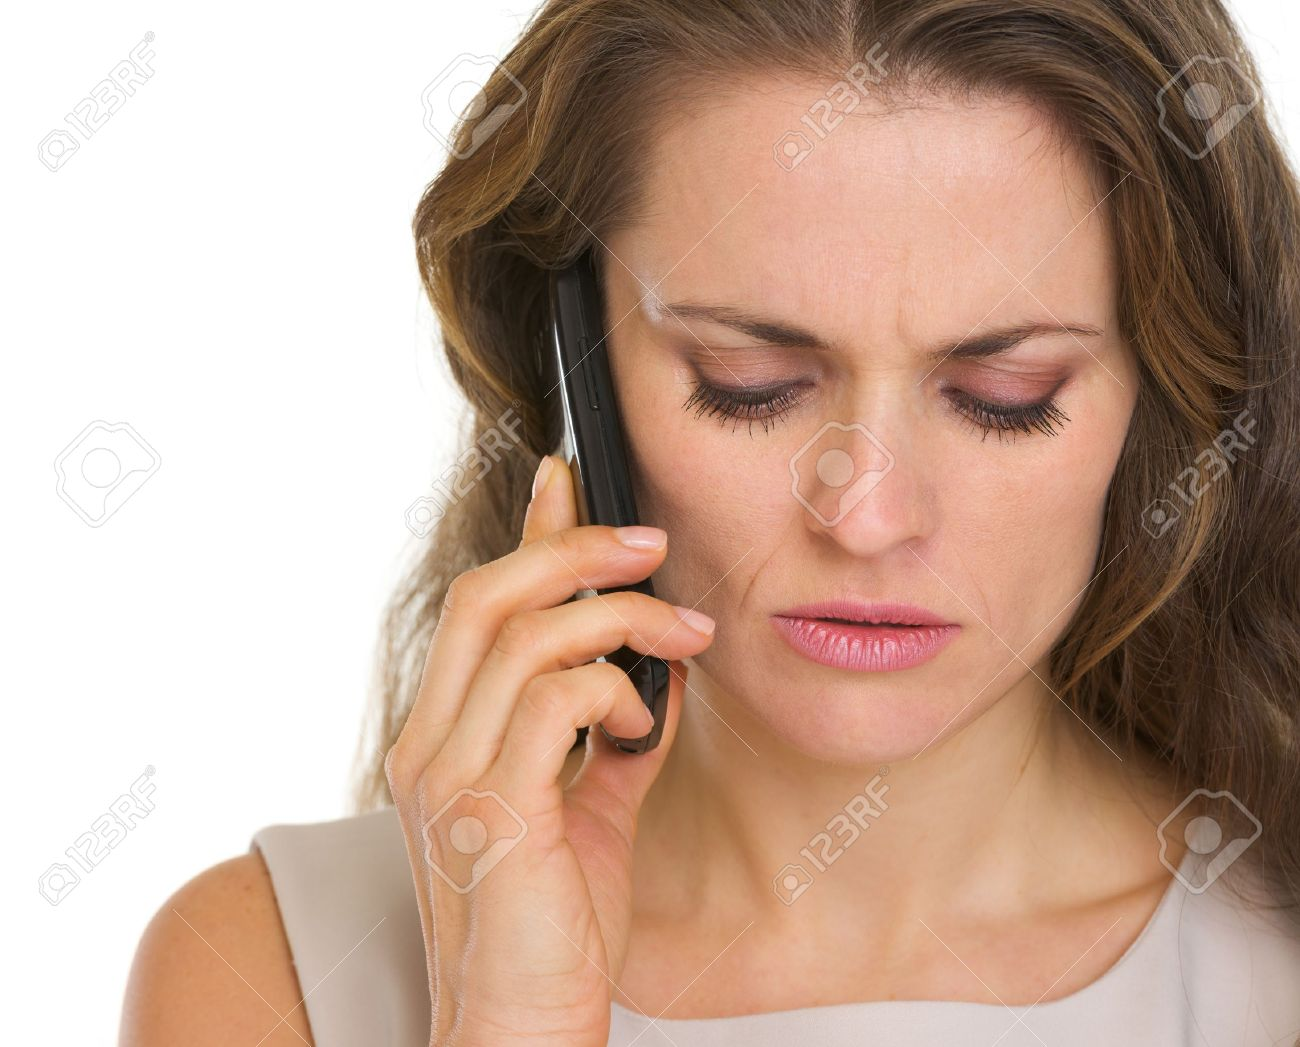phone: (400, 262, 716, 837)
talk: (381, 238, 1132, 1047)
